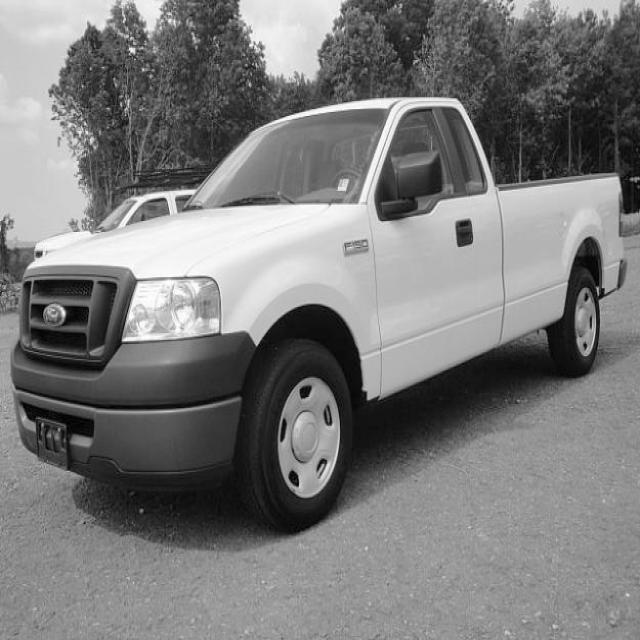car: (9, 94, 627, 532)
